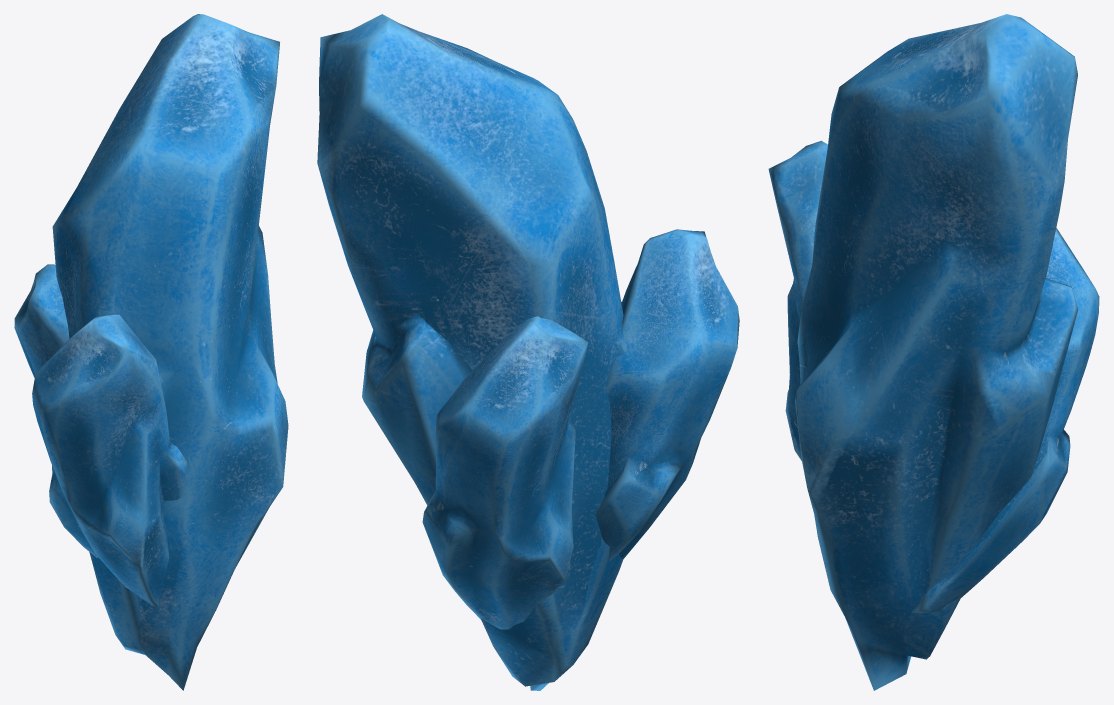
The model's file is ice_crystal_main3.fbx.
The picture shows the model from 3 angles, left to right: view 1: azimuth 30°, elevation 25°; view 2: azimuth 150°, elevation 25°; view 3: azimuth 270°, elevation 25°; orthographic projection. The views are drawn at different scales.
Visible parts, largest first — view 1: ice_crystal_main3; view 2: ice_crystal_main3; view 3: ice_crystal_main3.
Boxes of the visible parts, x1,y1,x2,y2 form: ice_crystal_main3: (14,14,288,690); ice_crystal_main3: (317,14,739,690); ice_crystal_main3: (768,14,1099,690).
Size of the model in its own units: 14.47 by 28.04 by 11.67.
